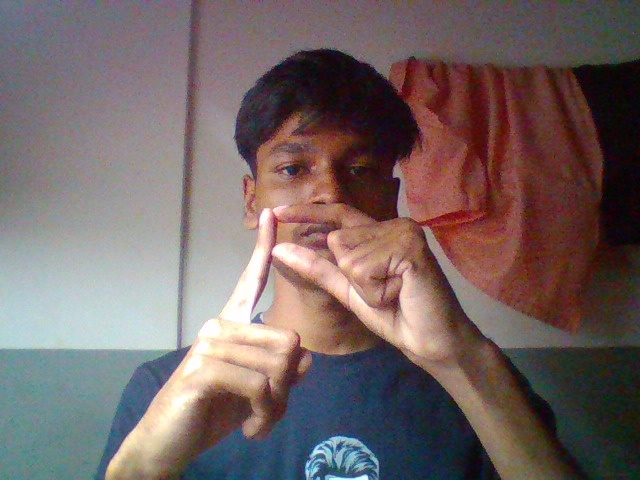P: (80, 172, 535, 462)
